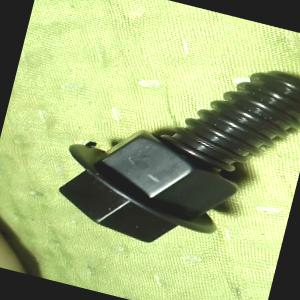parafuso: (47, 25, 300, 273)
